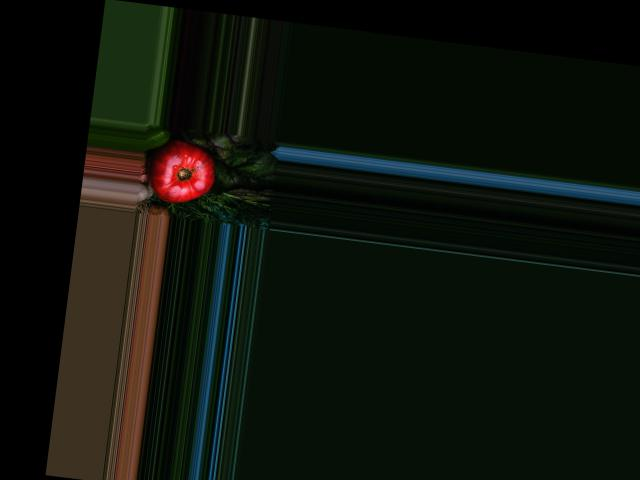tomato: (141, 134, 218, 207)
